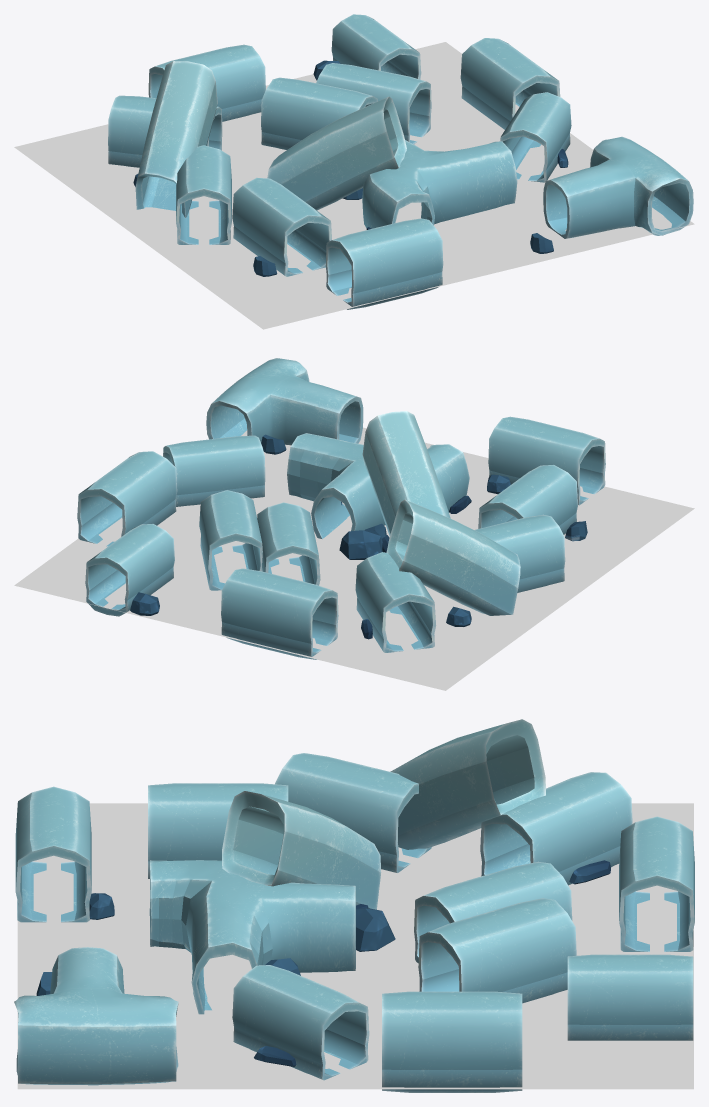
The model's file is Ice_map_MAIN_B.FBX.
The picture shows the model from 3 angles, top to bottom: view 1: azimuth 30°, elevation 25°; view 2: azimuth 150°, elevation 25°; view 3: azimuth 270°, elevation 25°; orthographic projection. The views are drawn at different scales.
Parts seen in each view (by area): view 1: Box, Box003, Box013, Box011, Box002, Box032, Box030, Box039, Box035, Box029, Box036, Box033 (+3 smaller); view 2: Box, Box032, Box003, Box013, Box029, Box039, Box011, Box002, Box038, Box037, Box031, Box030 (+5 smaller); view 3: Box, Box013, Box003, Box039, Box032, Box036, Box011, Box031, Box037, Box038, Box033, Box002 (+7 smaller).
Boxes of the visible parts, x1,y1,x2,y2 form: Box: (14, 42, 694, 329); Box003: (543, 136, 693, 238); Box013: (362, 140, 517, 228); Box011: (267, 96, 406, 210); Box002: (325, 218, 443, 309); Box032: (135, 61, 217, 217); Box030: (232, 177, 331, 276); Box039: (460, 38, 560, 129); Box035: (261, 77, 377, 149); Box029: (148, 44, 265, 121); Box036: (316, 63, 431, 144); Box033: (176, 145, 231, 244); Box: (14, 427, 694, 690); Box032: (386, 499, 520, 615); Box003: (206, 358, 363, 445); Box013: (287, 433, 469, 538); Box029: (221, 568, 338, 659); Box039: (77, 451, 177, 546); Box011: (362, 411, 450, 536); Box002: (488, 416, 605, 505); Box038: (163, 435, 265, 506); Box037: (85, 524, 174, 616); Box031: (355, 552, 436, 652); Box030: (478, 465, 577, 534); Box: (17, 803, 693, 1089); Box013: (149, 860, 355, 1014); Box003: (14, 947, 178, 1085); Box039: (382, 991, 522, 1092); Box032: (390, 719, 545, 849); Box036: (418, 898, 576, 1003); Box011: (222, 791, 381, 909); Box031: (480, 772, 632, 885); Box037: (567, 954, 693, 1040); Box038: (232, 965, 369, 1080); Box033: (275, 753, 431, 872); Box002: (15, 786, 91, 922).
Size of the model in its own units: 602 by 168 by 604.
